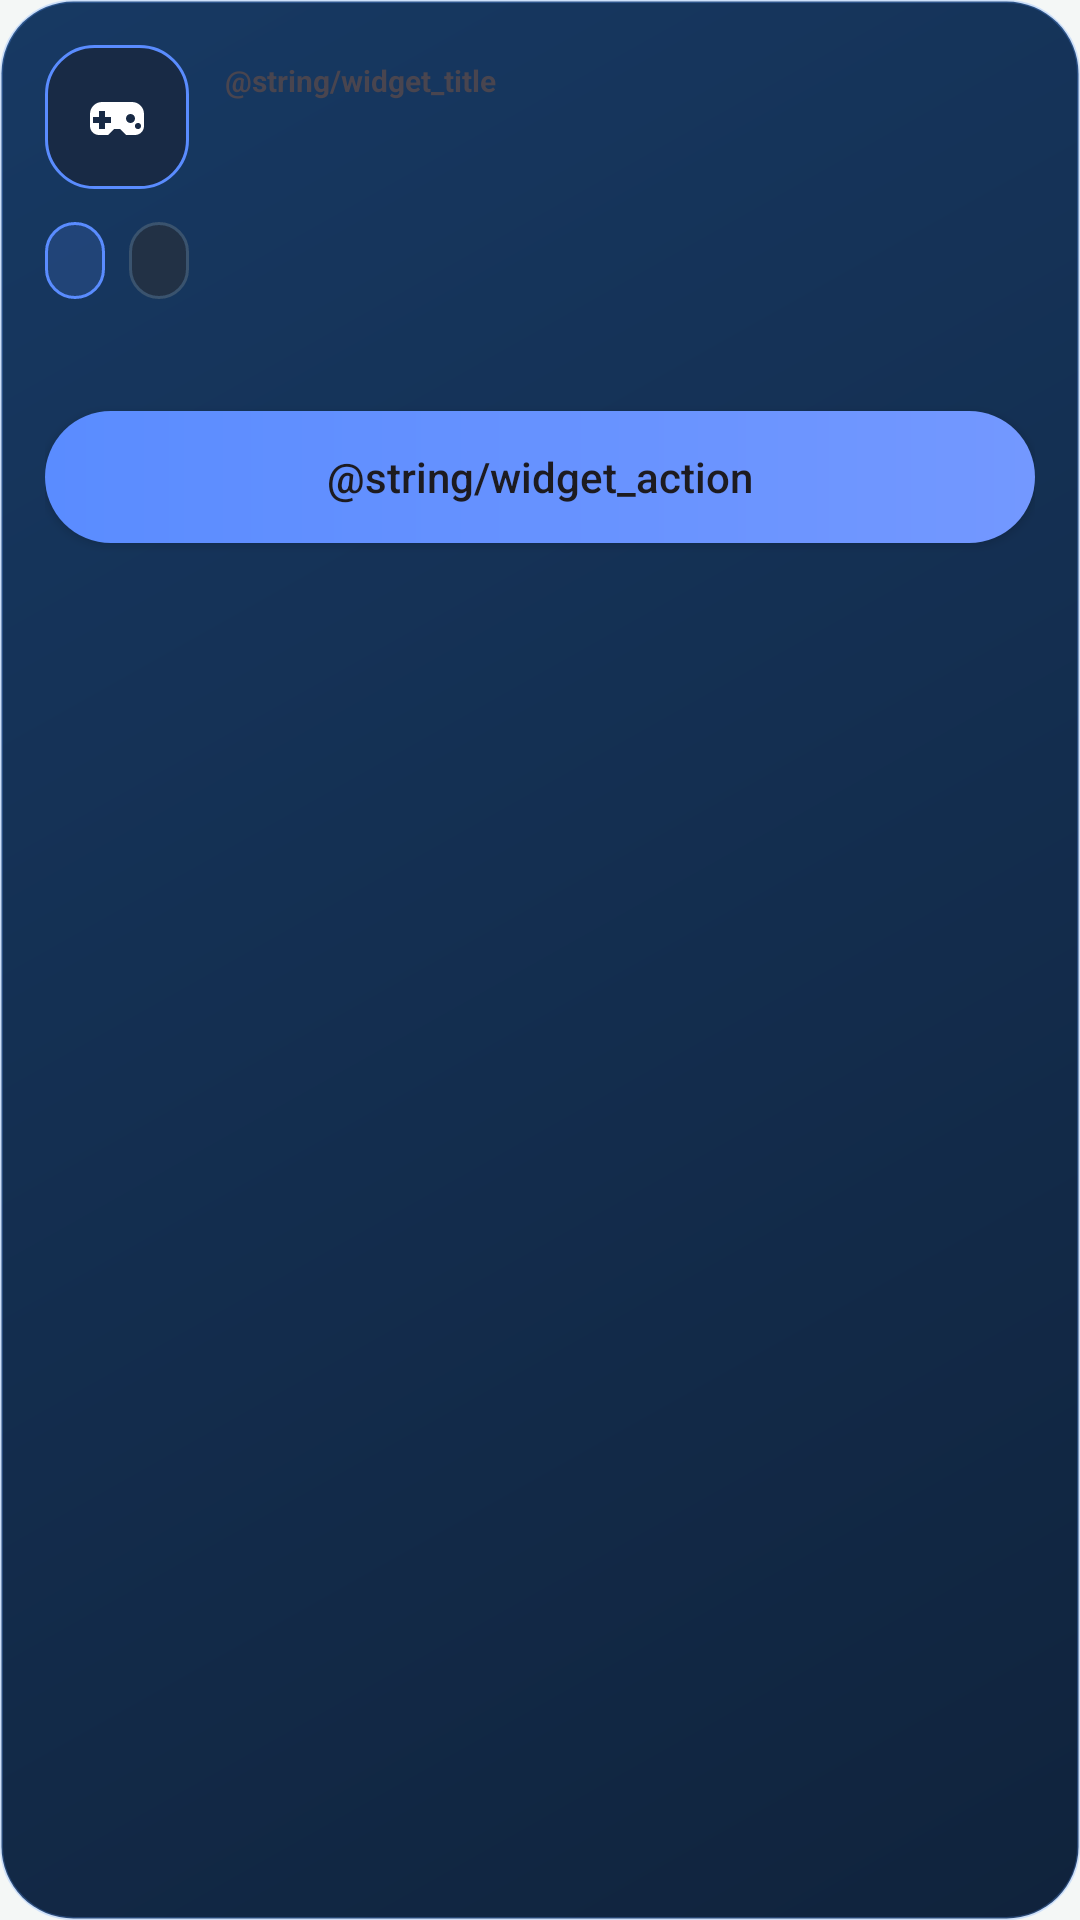

Screen size 1080w x 1920h. Icon name, then its box in pixels as (x1, y1, x2, y2):
games: (45, 45, 189, 189)
